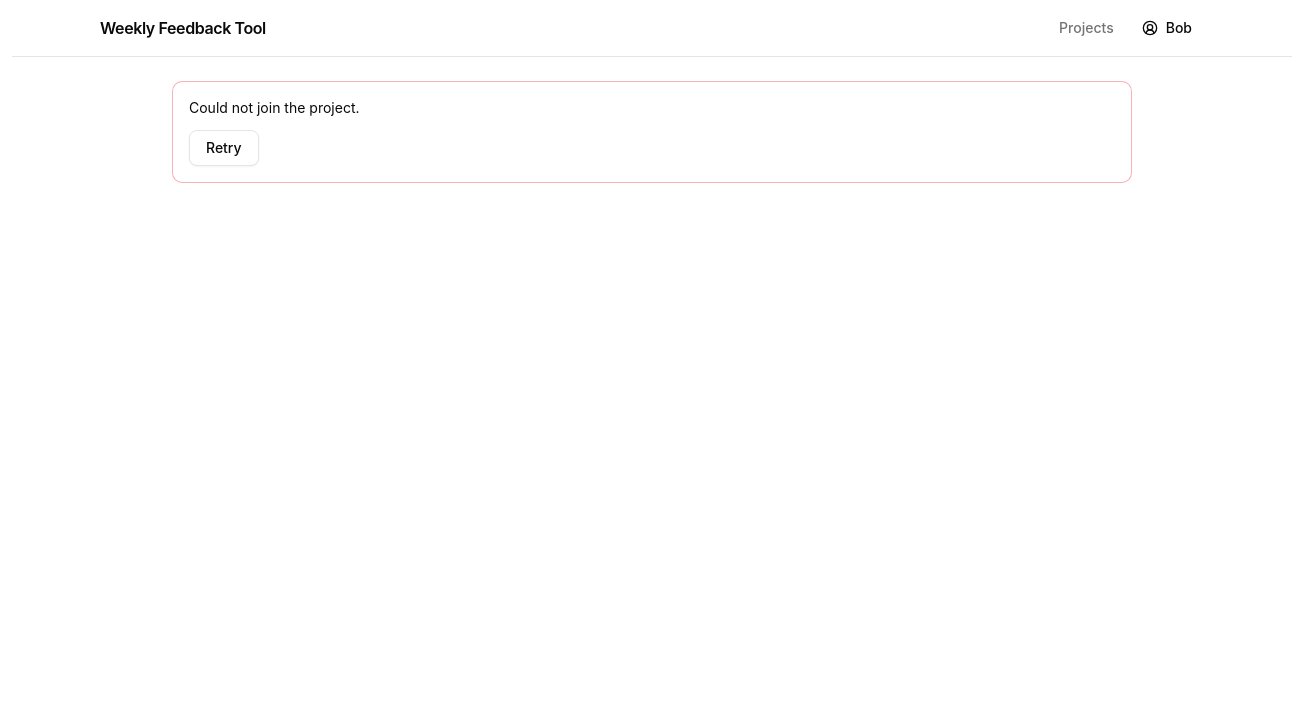
JoinProjectPage › shows a generic failure with Retry, and Retry joins
expect the message shows "Could not join the project.": met, box 189,99 -> 360,116
Click the button "Retry" at (224, 148), box 189,130 -> 259,166
(page scrolled)
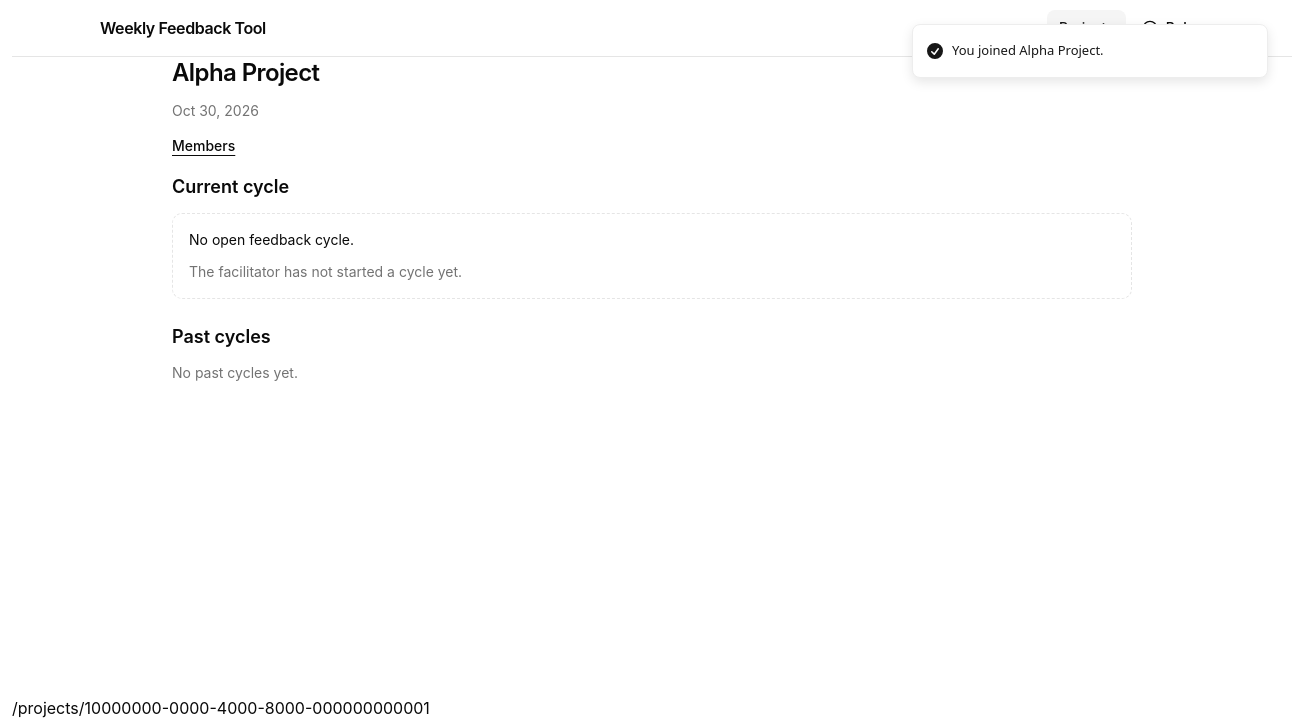
expect the text "You joined Alpha Project." is shown: met, box 952,41 -> 1104,60
